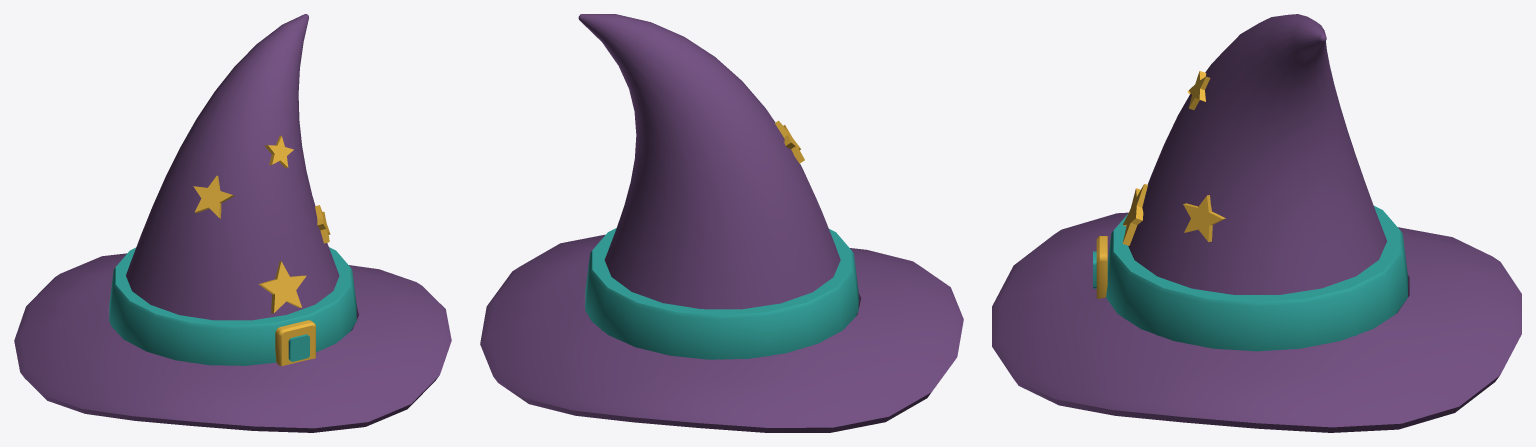
File: hat_wizard.glb
3 renders of one model, left to right at view 1: azimuth 30°, elevation 25°; view 2: azimuth 150°, elevation 25°; view 3: azimuth 270°, elevation 25°, orthographic. The views are drawn at different scales.
Parts seen in each view (by area): view 1: Hat; view 2: Hat; view 3: Hat.
Part boxes in pixels (x1,y1,x2,y2): Hat: (14,14,451,432); Hat: (480,14,963,432); Hat: (992,14,1521,432).
Size of the model in its own units: 0.868 by 0.6942 by 0.8592.
